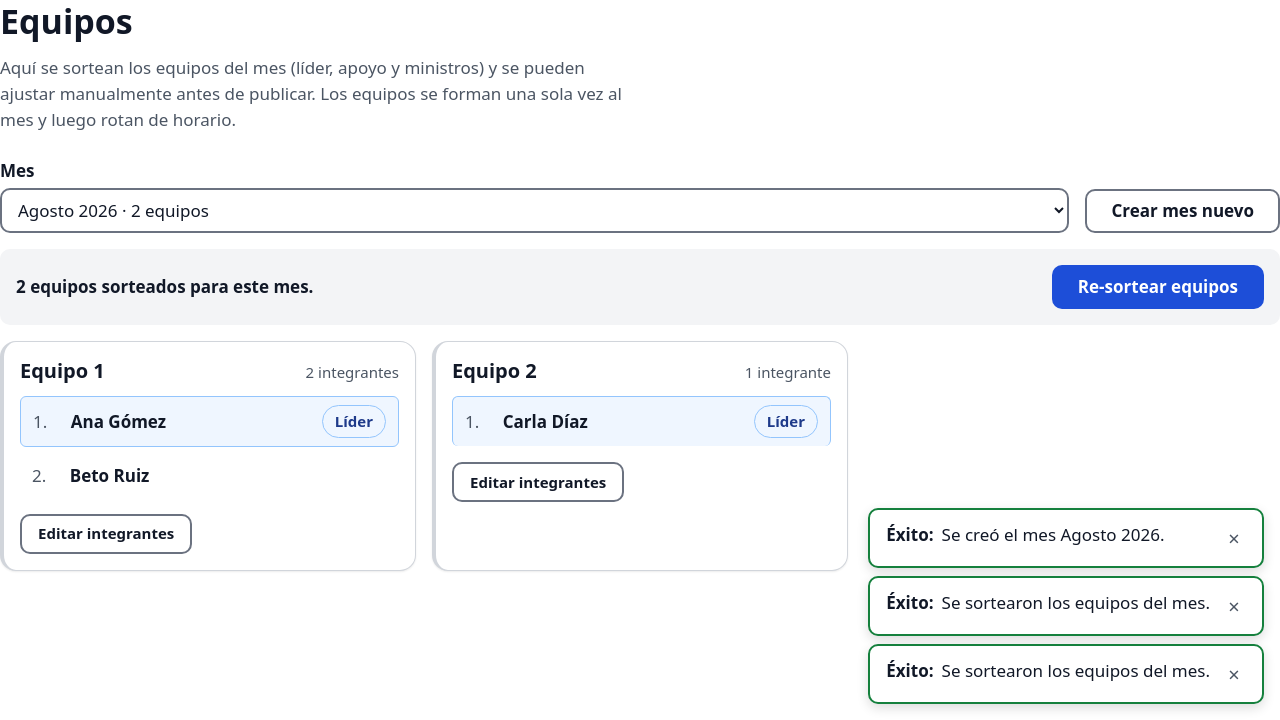
Test: TeamGenerator › pide confirmación antes de re-sortear equipos ya existentes y muestra los warnings devueltos (incluido el de jóvenes)
expect the heading "Equipo 1" is shown: met, box [20,358,105,383]
Click the button "Re-sortear equipos" at (1158, 287), box [1052,265,1264,309]
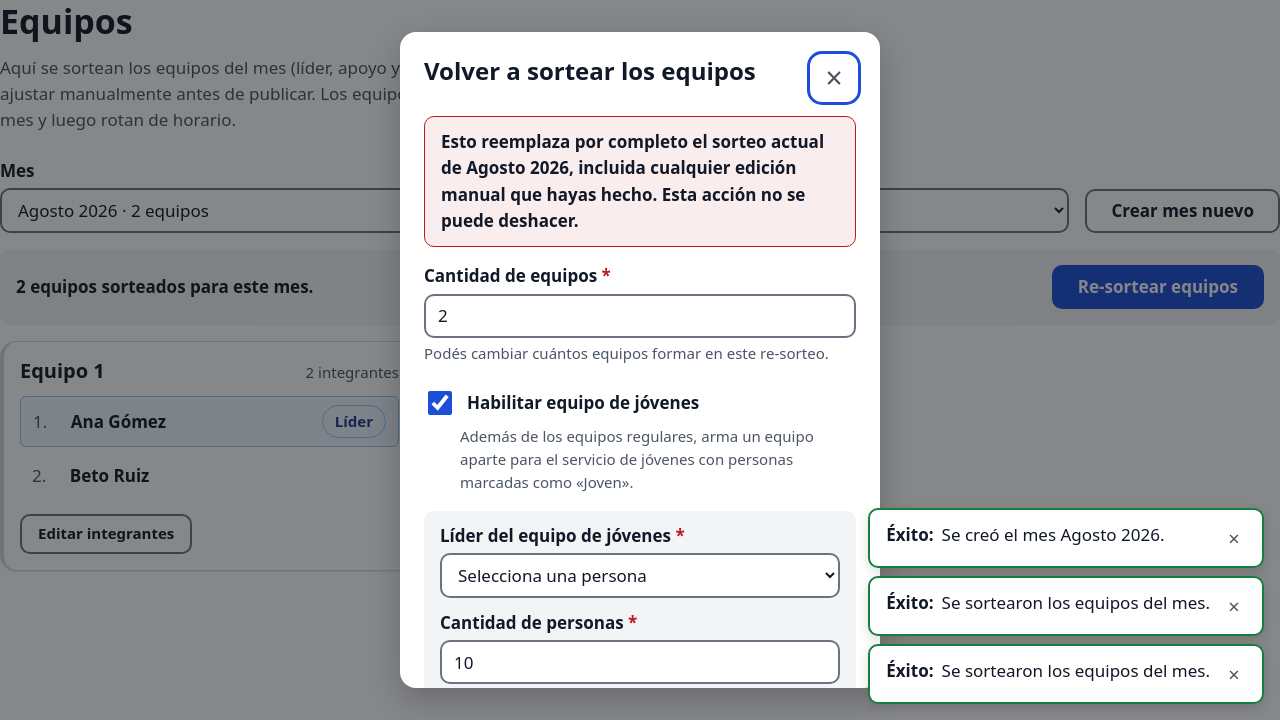
expect the heading "Volver a sortear los equipos" is shown: met, box [424,56,756,86]
Select "Elena Cruz" in the dropdown labelled "Líder del equipo de jóvenes *" at (640, 576), box [440,553,840,598]
(page scrolled)
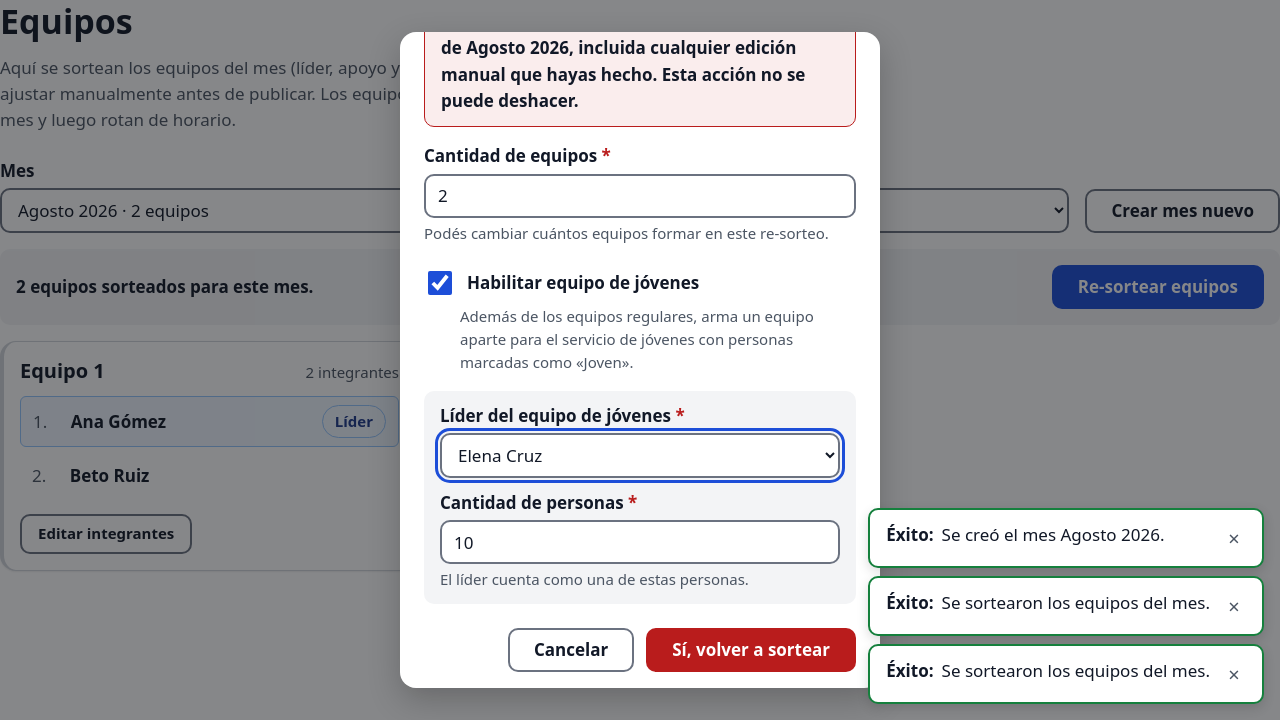
Click the button "Sí, volver a sortear" at (751, 650), box [646,628,856,672]
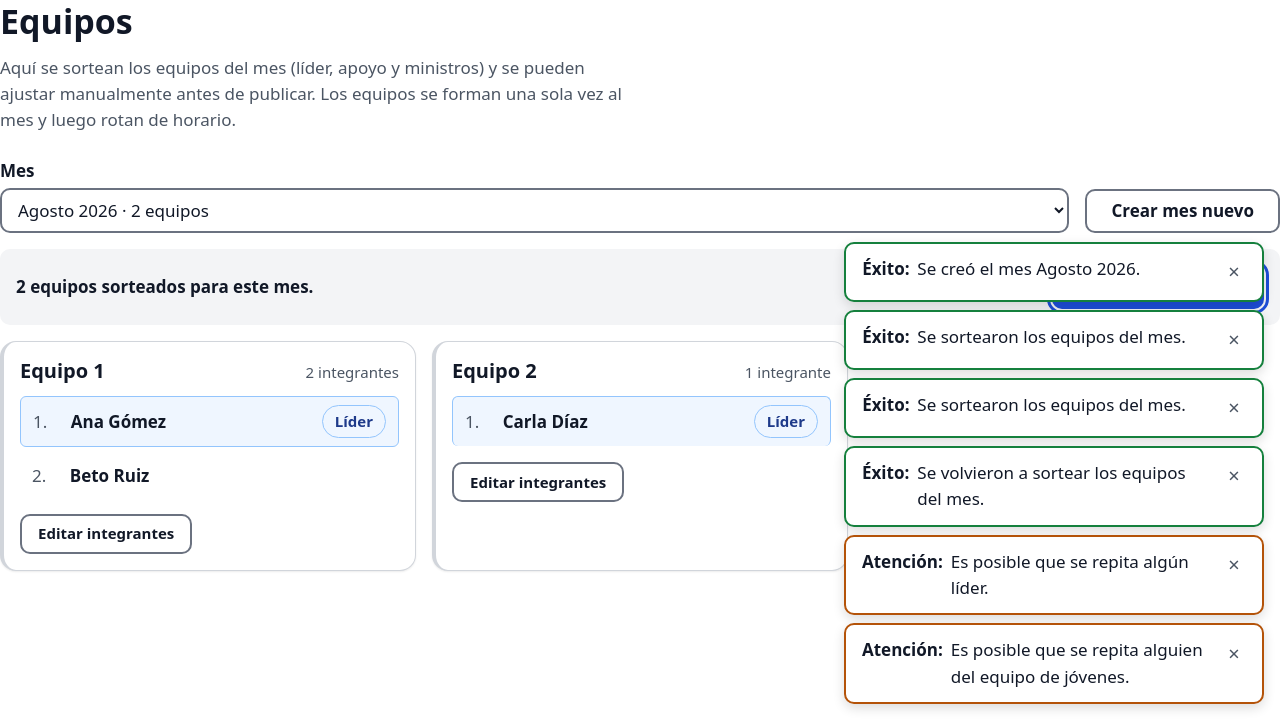
expect the text "Es posible que se repita algún líder." is shown: met, box [951,549,1210,601]
expect the text "Es posible que se repita alguien del equipo de jóvenes." is shown: met, box [951,637,1210,690]
